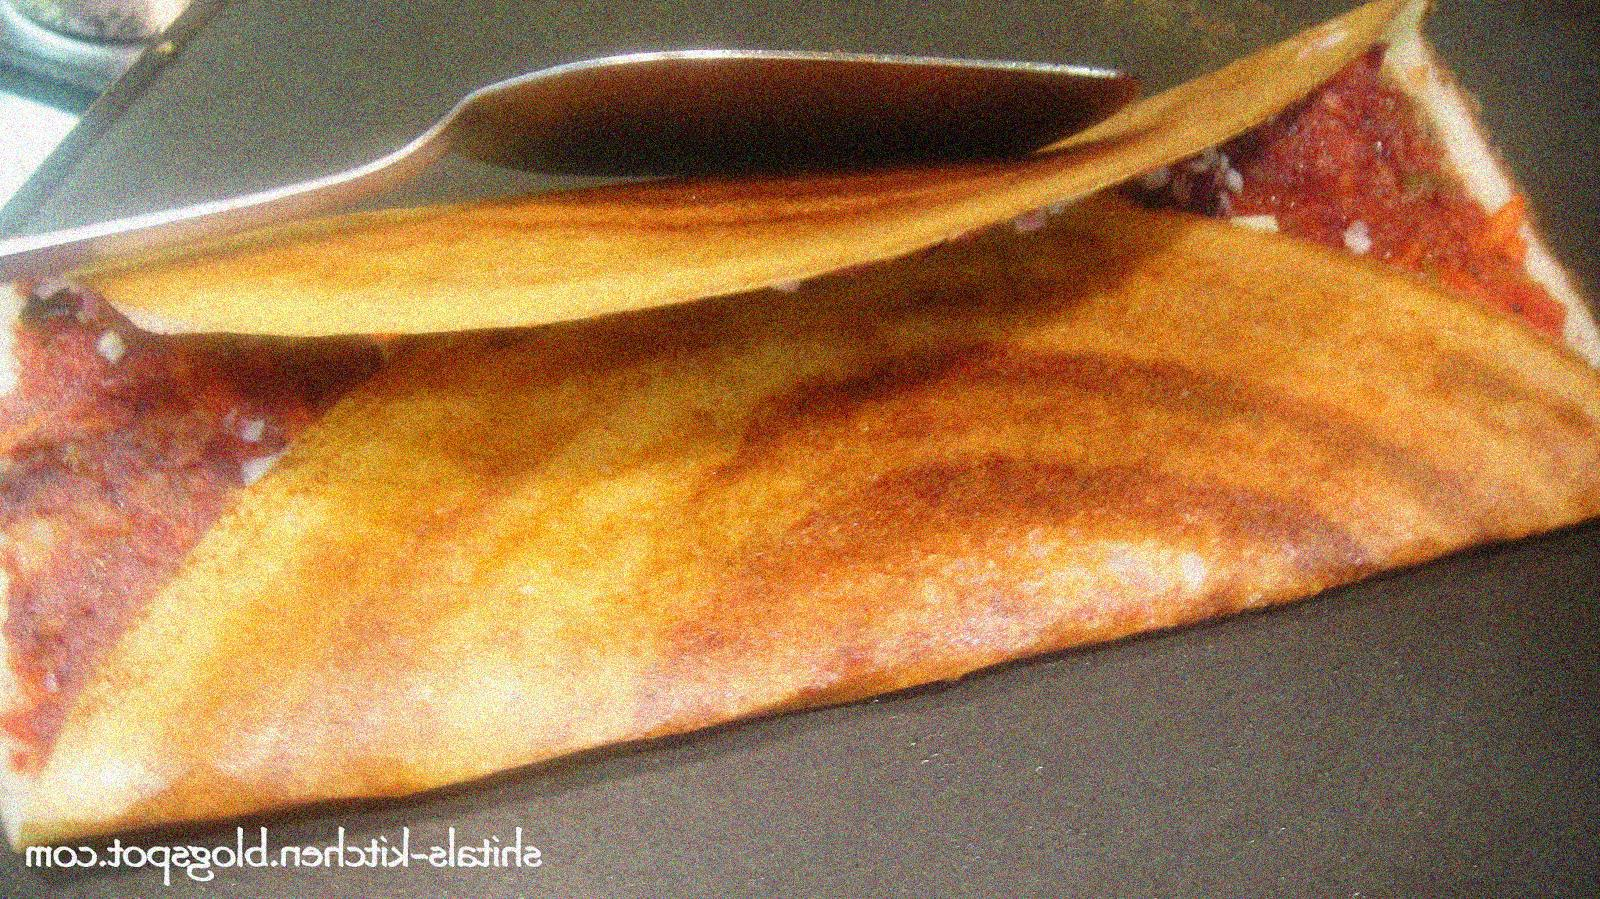dosa: (3, 8, 1600, 861)
